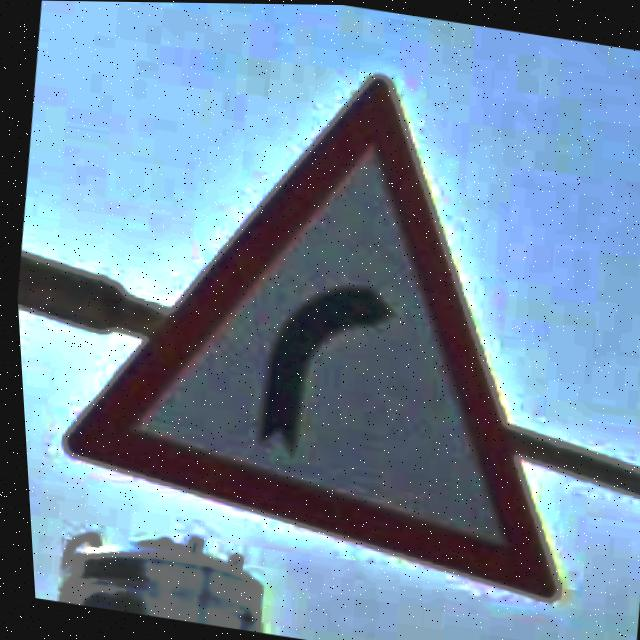rightbend: (58, 75, 554, 602)
